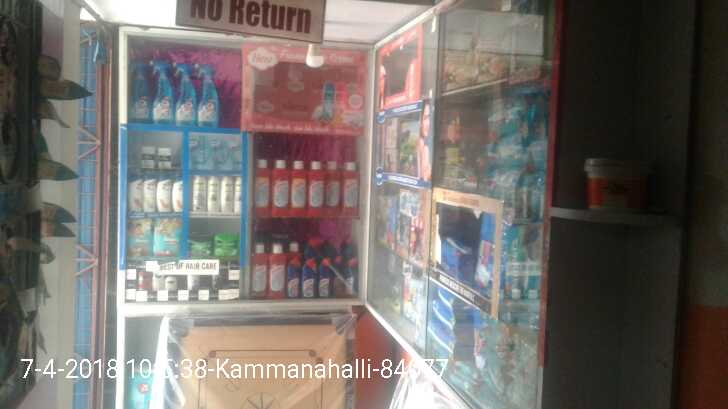venus: (205, 139, 225, 171), (189, 134, 204, 170), (226, 141, 242, 170)
